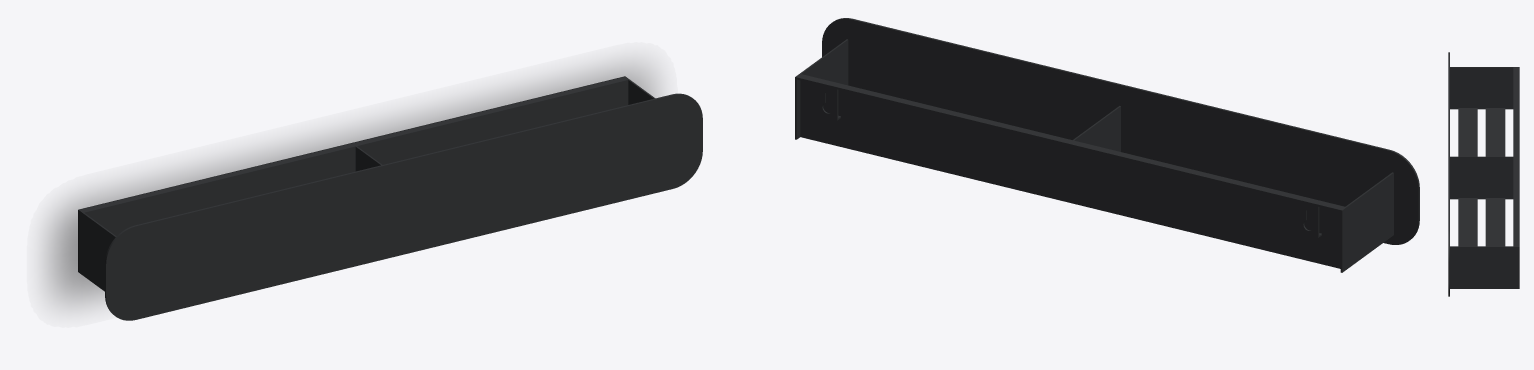
The model's file is radius-mono.5bedb3ab2c.ar.glb.
3 renders of one model, left to right at view 1: azimuth 30°, elevation 25°; view 2: azimuth 150°, elevation 25°; view 3: azimuth 270°, elevation 25°, orthographic. The views are drawn at different scales.
Parts seen in each view (by area): view 1: NAUO1, object 2; view 2: NAUO1; view 3: NAUO1.
Part boxes in pixels (left/top/right/bottom): NAUO1: left=78, top=76, right=702, bottom=320; object 2: left=45, top=64, right=657, bottom=305; NAUO1: left=795, top=18, right=1419, bottom=272; NAUO1: left=1448, top=52, right=1519, bottom=296.
Size of the model in its own units: 0.68 by 0.17 by 0.092.
2 materials, 1 textured.
